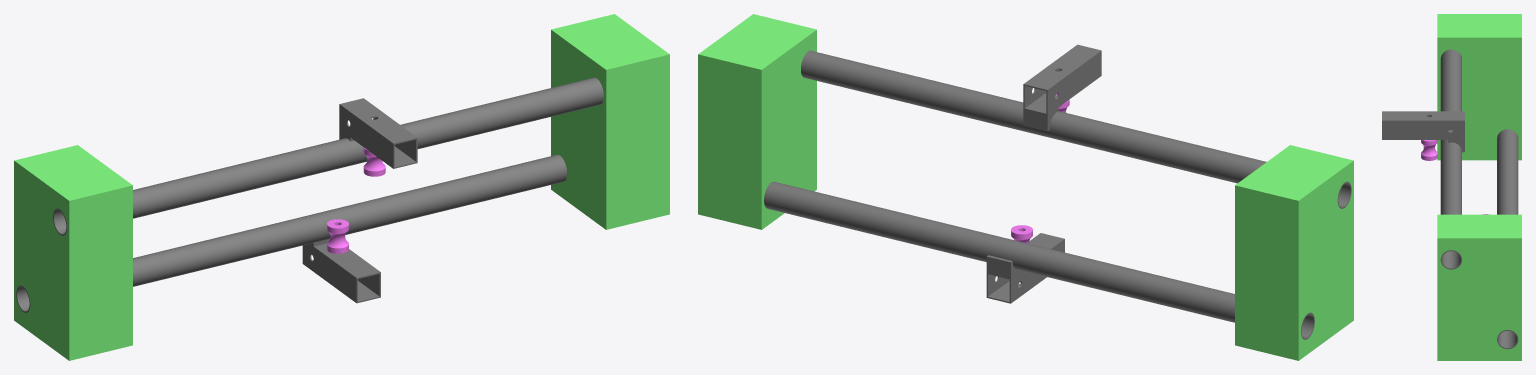
The model's file is WaCaR-O-legFrame.obj.
The picture shows the model from 3 angles, left to right: view 1: azimuth 30°, elevation 25°; view 2: azimuth 150°, elevation 25°; view 3: azimuth 270°, elevation 25°; orthographic projection. The views are drawn at different scales.
Parts seen in each view (by area): view 1: Root|WaCaR-O-legFrame_(Default)|Default|color-2, Root|WaCaR-O-legFrame_(Default)|Default|color, Root|WaCaR-O-legFrame_(Default)|Default|color-4; view 2: Root|WaCaR-O-legFrame_(Default)|Default|color-2, Root|WaCaR-O-legFrame_(Default)|Default|color; view 3: Root|WaCaR-O-legFrame_(Default)|Default|color-2, Root|WaCaR-O-legFrame_(Default)|Default|color, Root|WaCaR-O-legFrame_(Default)|Default|color-4.
Part boxes in pixels (x1=…): Root|WaCaR-O-legFrame_(Default)|Default|color-2: x1=14, y1=14, x2=669, y2=360; Root|WaCaR-O-legFrame_(Default)|Default|color: x1=16, y1=77, x2=603, y2=312; Root|WaCaR-O-legFrame_(Default)|Default|color-4: x1=327, y1=147, x2=385, y2=253; Root|WaCaR-O-legFrame_(Default)|Default|color-2: x1=698, y1=14, x2=1353, y2=360; Root|WaCaR-O-legFrame_(Default)|Default|color: x1=764, y1=44, x2=1351, y2=339; Root|WaCaR-O-legFrame_(Default)|Default|color-2: x1=1437, y1=14, x2=1521, y2=360; Root|WaCaR-O-legFrame_(Default)|Default|color: x1=1382, y1=49, x2=1518, y2=349; Root|WaCaR-O-legFrame_(Default)|Default|color-4: x1=1421, y1=140, x2=1489, y2=214.
Size of the model in its own units: 0.9425 by 0.28 by 0.248.
